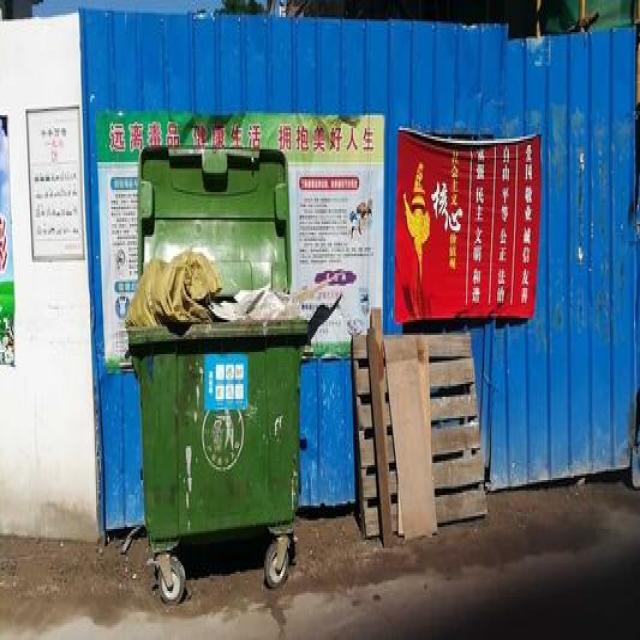overflow: (122, 250, 335, 538)
